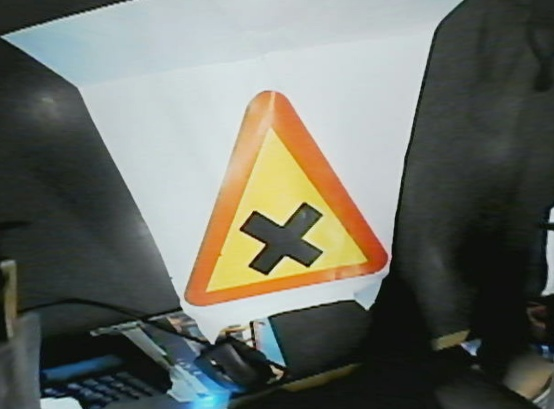junction: (177, 71, 391, 308)
